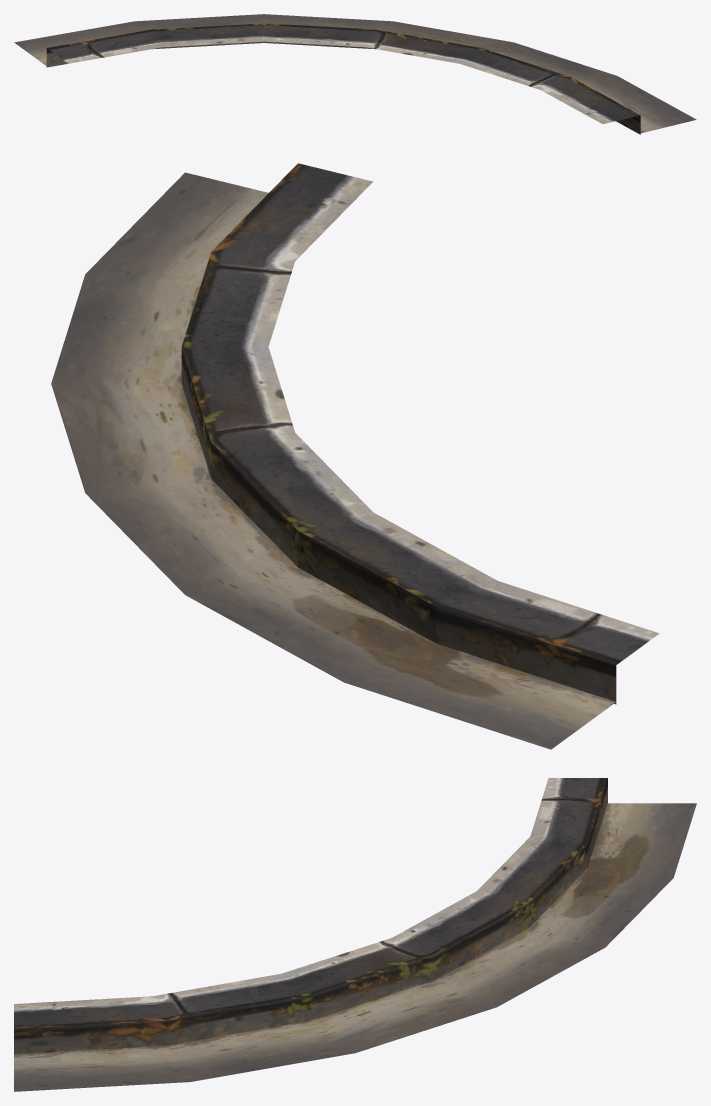
File: ST_KerbCorner3.fbx
3 renders of one model, top to bottom at view 1: azimuth 30°, elevation 25°; view 2: azimuth 150°, elevation 25°; view 3: azimuth 270°, elevation 25°, orthographic. The views are drawn at different scales.
Parts seen in each view (by area): view 1: ST_KerbCorner3; view 2: ST_KerbCorner3; view 3: ST_KerbCorner3.
Boxes of the visible parts, left/top/right/bottom form: ST_KerbCorner3: left=14, top=14, right=696, bottom=134; ST_KerbCorner3: left=51, top=163, right=659, bottom=749; ST_KerbCorner3: left=14, top=778, right=696, bottom=1091.
Size of the model in its own units: 3.45 by 3.45 by 0.15.
Materials: 1 (1 with a texture image).
